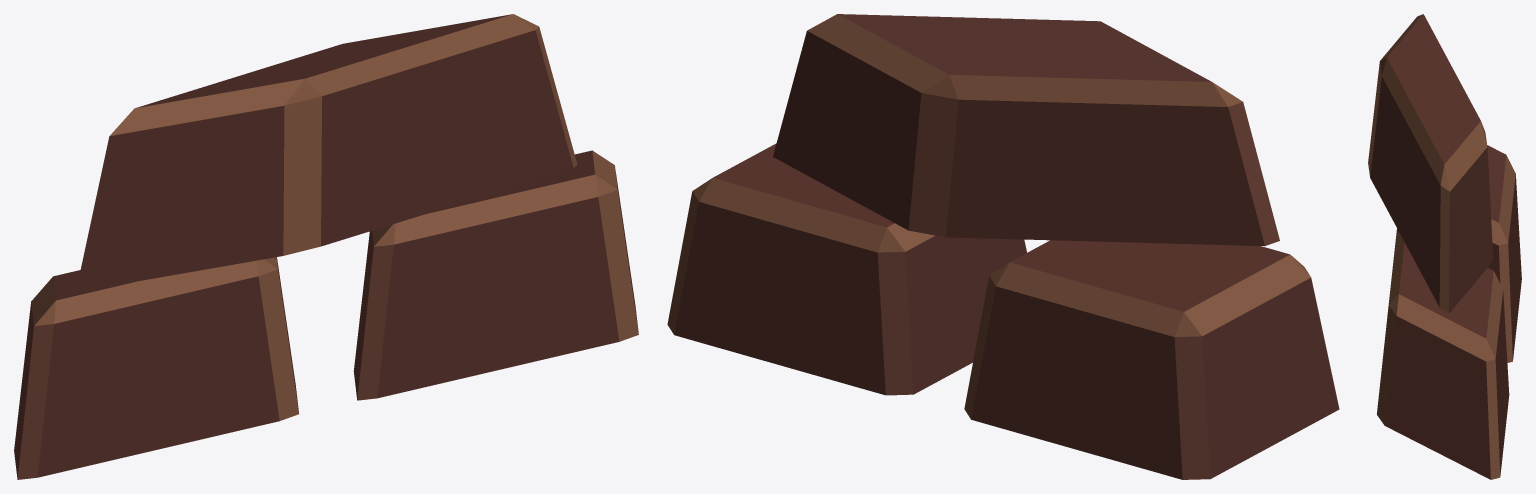
File: icon_stone.fbx
3 renders of one model, left to right at view 1: azimuth 30°, elevation 25°; view 2: azimuth 150°, elevation 25°; view 3: azimuth 270°, elevation 25°, orthographic. The views are drawn at different scales.
Parts seen in each view (by area): view 1: icon_stone; view 2: icon_stone; view 3: icon_stone.
Part boxes in pixels (left/top/right/bottom): icon_stone: left=14, top=14, right=638, bottom=479; icon_stone: left=667, top=14, right=1339, bottom=479; icon_stone: left=1368, top=14, right=1521, bottom=479.
Bounding box in the file's own units: 39.37 × 21.64 × 10.53.
